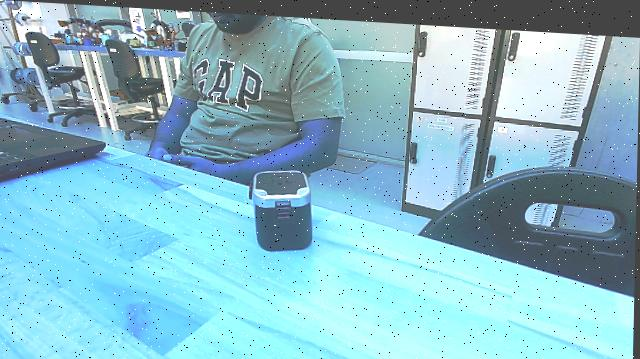adapter: (243, 161, 320, 254)
